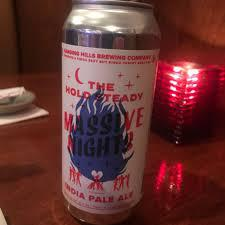beer: (56, 1, 162, 222)
